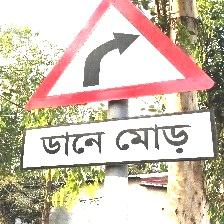Right-turn: (22, 1, 216, 186)
